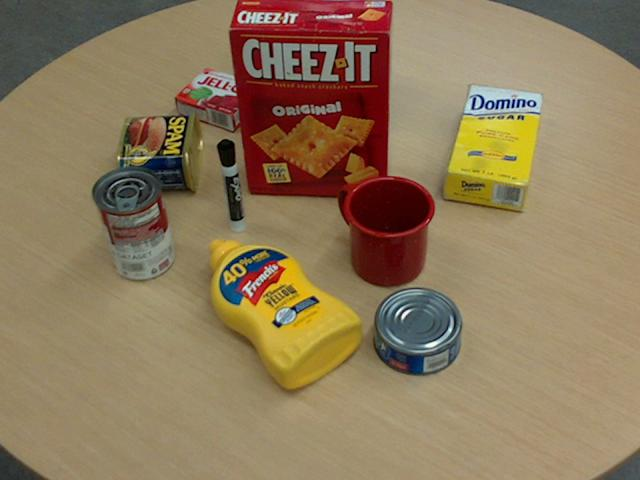cracker_box: (228, 0, 394, 195)
gelatin_box: (172, 66, 262, 130)
large_marker: (216, 139, 245, 233)
master_chef_can: (298, 0, 385, 125)
mug: (339, 174, 435, 285)
mustard_bottle: (207, 239, 362, 388)
potted_meat_can: (117, 110, 202, 189)
sugar_box: (444, 85, 542, 210)
tomato_soup_can: (90, 164, 172, 279)
tuna_fish_can: (374, 287, 462, 374)
